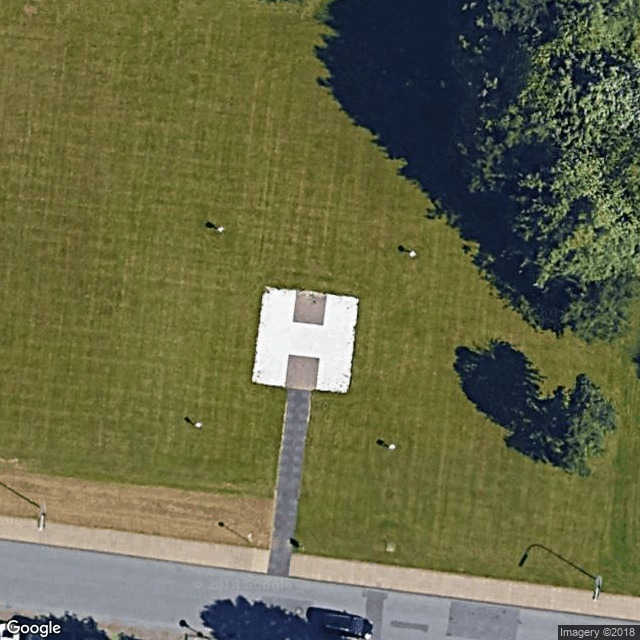heliport: (239, 270, 368, 400)
